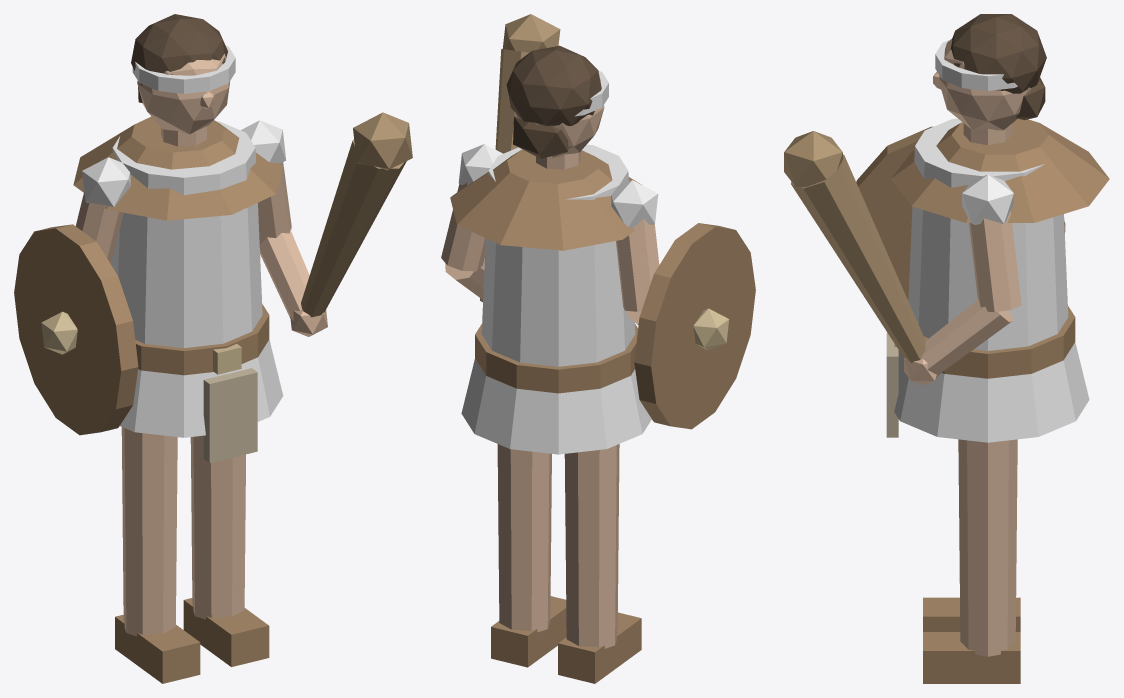
Rendered from civ_unit_warrior.glb.
3 renders of one model, left to right at view 1: azimuth 30°, elevation 25°; view 2: azimuth 150°, elevation 25°; view 3: azimuth 270°, elevation 25°, orthographic. The views are drawn at different scales.
Parts seen in each view (by area): view 1: civ_unit_warrior; view 2: civ_unit_warrior; view 3: civ_unit_warrior.
Boxes of the visible parts, left/top/right/bottom form: civ_unit_warrior: left=14, top=14, right=412, bottom=683; civ_unit_warrior: left=441, top=14, right=755, bottom=683; civ_unit_warrior: left=784, top=14, right=1109, bottom=683.
Bounding box in the file's own units: 0.8597 × 1.74 × 0.8023.
